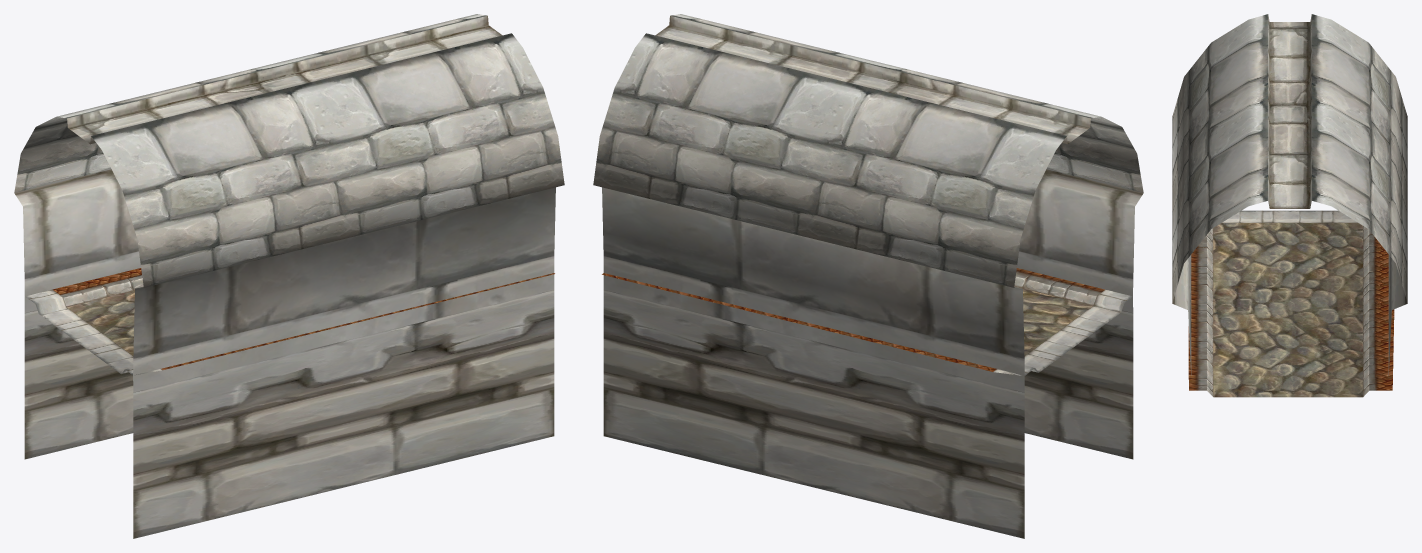
The model's file is stormwind_005.fbx.
The picture shows the model from 3 angles, left to right: view 1: azimuth 30°, elevation 25°; view 2: azimuth 150°, elevation 25°; view 3: azimuth 270°, elevation 25°; orthographic projection. The views are drawn at different scales.
Visible parts, largest first — view 1: stormwind_005_11, stormwind_005_4, stormwind_005_5, stormwind_005_45, stormwind_005_12, stormwind_005_46; view 2: stormwind_005_11, stormwind_005_4, stormwind_005_5, stormwind_005_12, stormwind_005_45, stormwind_005_46; view 3: stormwind_005_4, stormwind_005_46, stormwind_005_5, stormwind_005_12, stormwind_005_11, stormwind_005_45.
Part boxes in pixels (x1,y1,x2,y2): stormwind_005_11: (14,169,555,538); stormwind_005_4: (14,14,564,287); stormwind_005_5: (67,15,502,144); stormwind_005_45: (25,289,162,374); stormwind_005_12: (53,268,554,369); stormwind_005_46: (67,290,134,355); stormwind_005_11: (602,169,1143,538); stormwind_005_4: (593,14,1143,287); stormwind_005_5: (655,15,1090,144); stormwind_005_12: (602,268,1104,371); stormwind_005_45: (993,289,1132,375); stormwind_005_46: (1023,289,1092,355); stormwind_005_4: (1172,14,1407,302); stormwind_005_46: (1213,223,1362,397); stormwind_005_5: (1268,16,1311,208); stormwind_005_12: (1188,226,1394,396); stormwind_005_11: (1172,255,1407,375); stormwind_005_45: (1222,210,1357,222).
Size of the model in its own units: 18.89 by 15.96 by 10.07.
